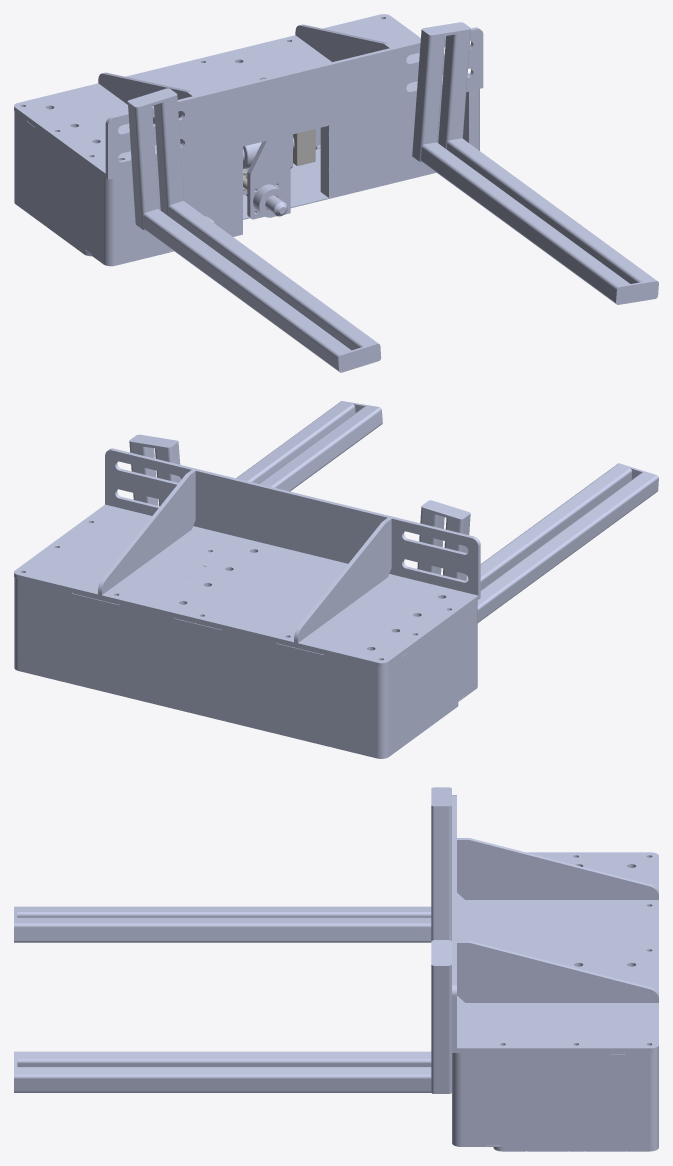
The model's file is Привод стола.glb.
3 views of the same model, one above another, from view 1: azimuth 30°, elevation 25°; view 2: azimuth 150°, elevation 25°; view 3: azimuth 270°, elevation 25° (orthographic). The views are drawn at different scales.
Visible parts, largest first — view 1: 65.03.00.406 ÃÃ¨Ã±Ã²_00 (×2), 65.03.00.104 ÃÃ«Ã¨Ã²Ã _00, 65.03.00.101 ÃÃ«Ã¨Ã²Ã _00, 65.03.50.003 ÃÃ°Ã³Ã¡Ã 25Ãµ25Ãµ3 ÃÃÃÃ 8639-82 L=500_003, 65.03.50.003 ÃÃ°Ã³Ã¡Ã 25Ãµ25Ãµ3 ÃÃÃÃ 8639-82 L=500_001, 65.03.50.003 ÃÃ°Ã³Ã¡Ã 25Ãµ25Ãµ3 ÃÃÃÃ 8639-82 L=500_002, 65.03.50.003 ÃÃ°Ã³Ã¡Ã 25Ãµ25Ãµ3 ÃÃÃÃ 8639-82 L=500_00, 65.03.50.002 ÃÃ°Ã³Ã¡Ã 25Ãµ25Ãµ3 ÃÃÃÃ 8639-82 L=170_001, 65.03.50.002 ÃÃ°Ã³Ã¡Ã 25Ãµ25Ãµ3 ÃÃÃÃ 8639-82 L=170_00, 65.03.50.002 ÃÃ°Ã³Ã¡Ã 25Ãµ25Ãµ3 ÃÃÃÃ 8639-82 L=170_003, 65.03.50.002 ÃÃ°Ã³Ã¡Ã 25Ãµ25Ãµ3 ÃÃÃÃ 8639-82 L=170_002, 65.03.00.206 ÃÃ«Ã Ã±Ã²Ã¨ÃÃ _00 (+10 smaller); view 2: 65.03.00.406 ÃÃ¨Ã±Ã²_00 (×2), 65.03.00.101 ÃÃ«Ã¨Ã²Ã _00, 65.03.00.104 ÃÃ«Ã¨Ã²Ã _00, 65.03.50.003 ÃÃ°Ã³Ã¡Ã 25Ãµ25Ãµ3 ÃÃÃÃ 8639-82 L=500_003, 65.03.50.003 ÃÃ°Ã³Ã¡Ã 25Ãµ25Ãµ3 ÃÃÃÃ 8639-82 L=500_002, 65.03.00.105 ÃÃ¥Ã¡Ã°Ã®_001, 65.03.00.105 ÃÃ¥Ã¡Ã°Ã®_00, 65.03.50.003 ÃÃ°Ã³Ã¡Ã 25Ãµ25Ãµ3 ÃÃÃÃ 8639-82 L=500_001, 65.03.50.003 ÃÃ°Ã³Ã¡Ã 25Ãµ25Ãµ3 ÃÃÃÃ 8639-82 L=500_00, 65.03.50.002 ÃÃ°Ã³Ã¡Ã 25Ãµ25Ãµ3 ÃÃÃÃ 8639-82 L=170_002, 65.03.50.002 ÃÃ°Ã³Ã¡Ã 25Ãµ25Ãµ3 ÃÃÃÃ 8639-82 L=170_003, 65.03.50.002 ÃÃ°Ã³Ã¡Ã 25Ãµ25Ãµ3 ÃÃÃÃ 8639-82 L=170_00 (+3 smaller); view 3: 65.03.00.406 ÃÃ¨Ã±Ã²_00 (×2), 65.03.00.101 ÃÃ«Ã¨Ã²Ã _00, 65.03.50.003 ÃÃ°Ã³Ã¡Ã 25Ãµ25Ãµ3 ÃÃÃÃ 8639-82 L=500_00, 65.03.50.003 ÃÃ°Ã³Ã¡Ã 25Ãµ25Ãµ3 ÃÃÃÃ 8639-82 L=500_002, 65.03.00.105 ÃÃ¥Ã¡Ã°Ã®_001, 65.03.00.105 ÃÃ¥Ã¡Ã°Ã®_00, 65.03.50.003 ÃÃ°Ã³Ã¡Ã 25Ãµ25Ãµ3 ÃÃÃÃ 8639-82 L=500_001, 65.03.50.003 ÃÃ°Ã³Ã¡Ã 25Ãµ25Ãµ3 ÃÃÃÃ 8639-82 L=500_003, 65.03.50.002 ÃÃ°Ã³Ã¡Ã 25Ãµ25Ãµ3 ÃÃÃÃ 8639-82 L=170_002, 65.03.50.002 ÃÃ°Ã³Ã¡Ã 25Ãµ25Ãµ3 ÃÃÃÃ 8639-82 L=170_00, 65.03.00.104 ÃÃ«Ã¨Ã²Ã _00, 65.03.50.001 ÃÃ ÃªÃ«Ã Ã¤ÃªÃ _00.
Part boxes in pixels (x1,y1,x2,y2): 65.03.00.406 ÃÃ¨Ã±Ã²_00 (×2): [14, 49, 479, 266]; 65.03.00.104 ÃÃ«Ã¨Ã²Ã _00: [105, 27, 483, 175]; 65.03.00.101 ÃÃ«Ã¨Ã²Ã _00: [14, 14, 483, 179]; 65.03.50.003 ÃÃ°Ã³Ã¡Ã 25Ãµ25Ãµ3 ÃÃÃÃ 8639-82 L=500_003: [143, 209, 351, 370]; 65.03.50.003 ÃÃ°Ã³Ã¡Ã 25Ãµ25Ãµ3 ÃÃÃÃ 8639-82 L=500_001: [421, 142, 629, 302]; 65.03.50.003 ÃÃ°Ã³Ã¡Ã 25Ãµ25Ãµ3 ÃÃÃÃ 8639-82 L=500_002: [168, 201, 377, 350]; 65.03.50.003 ÃÃ°Ã³Ã¡Ã 25Ãµ25Ãµ3 ÃÃÃÃ 8639-82 L=500_00: [446, 138, 655, 283]; 65.03.50.002 ÃÃ°Ã³Ã¡Ã 25Ãµ25Ãµ3 ÃÃÃÃ 8639-82 L=170_001: [412, 32, 445, 158]; 65.03.50.002 ÃÃ°Ã³Ã¡Ã 25Ãµ25Ãµ3 ÃÃÃÃ 8639-82 L=170_00: [438, 32, 470, 148]; 65.03.50.002 ÃÃ°Ã³Ã¡Ã 25Ãµ25Ãµ3 ÃÃÃÃ 8639-82 L=170_003: [128, 105, 158, 227]; 65.03.50.002 ÃÃ°Ã³Ã¡Ã 25Ãµ25Ãµ3 ÃÃÃÃ 8639-82 L=170_002: [154, 97, 183, 216]; 65.03.00.206 ÃÃ«Ã Ã±Ã²Ã¨ÃÃ _00: [247, 136, 290, 219]; 65.03.00.406 ÃÃ¨Ã±Ã²_00 (×2): [14, 515, 477, 757]; 65.03.00.101 ÃÃ«Ã¨Ã²Ã _00: [14, 504, 480, 667]; 65.03.00.104 ÃÃ«Ã¨Ã²Ã _00: [105, 448, 480, 595]; 65.03.50.003 ÃÃ°Ã³Ã¡Ã 25Ãµ25Ãµ3 ÃÃÃÃ 8639-82 L=500_003: [477, 472, 657, 622]; 65.03.50.003 ÃÃ°Ã³Ã¡Ã 25Ãµ25Ãµ3 ÃÃÃÃ 8639-82 L=500_002: [466, 464, 631, 590]; 65.03.00.105 ÃÃ¥Ã¡Ã°Ã®_001: [98, 470, 195, 595]; 65.03.00.105 ÃÃ¥Ã¡Ã°Ã®_00: [294, 518, 391, 642]; 65.03.50.003 ÃÃ°Ã³Ã¡Ã 25Ãµ25Ãµ3 ÃÃÃÃ 8639-82 L=500_001: [259, 406, 381, 491]; 65.03.50.003 ÃÃ°Ã³Ã¡Ã 25Ãµ25Ãµ3 ÃÃÃÃ 8639-82 L=500_00: [236, 402, 355, 483]; 65.03.50.002 ÃÃ°Ã³Ã¡Ã 25Ãµ25Ãµ3 ÃÃÃÃ 8639-82 L=170_002: [417, 510, 444, 574]; 65.03.50.002 ÃÃ°Ã³Ã¡Ã 25Ãµ25Ãµ3 ÃÃÃÃ 8639-82 L=170_003: [443, 517, 470, 580]; 65.03.50.002 ÃÃ°Ã³Ã¡Ã 25Ãµ25Ãµ3 ÃÃÃÃ 8639-82 L=170_00: [129, 444, 158, 505]; 65.03.00.406 ÃÃ¨Ã±Ã²_00 (×2): [452, 852, 658, 1151]; 65.03.00.101 ÃÃ«Ã¨Ã²Ã _00: [452, 852, 658, 1052]; 65.03.50.003 ÃÃ°Ã³Ã¡Ã 25Ãµ25Ãµ3 ÃÃÃÃ 8639-82 L=500_00: [17, 1067, 431, 1092]; 65.03.50.003 ÃÃ°Ã³Ã¡Ã 25Ãµ25Ãµ3 ÃÃÃÃ 8639-82 L=500_002: [17, 918, 431, 942]; 65.03.00.105 ÃÃ¥Ã¡Ã°Ã®_001: [457, 940, 658, 1002]; 65.03.00.105 ÃÃ¥Ã¡Ã°Ã®_00: [457, 838, 658, 899]; 65.03.50.003 ÃÃ°Ã³Ã¡Ã 25Ãµ25Ãµ3 ÃÃÃÃ 8639-82 L=500_001: [17, 1051, 431, 1066]; 65.03.50.003 ÃÃ°Ã³Ã¡Ã 25Ãµ25Ãµ3 ÃÃÃÃ 8639-82 L=500_003: [17, 906, 431, 917]; 65.03.50.002 ÃÃ°Ã³Ã¡Ã 25Ãµ25Ãµ3 ÃÃÃÃ 8639-82 L=170_002: [431, 809, 451, 940]; 65.03.50.002 ÃÃ°Ã³Ã¡Ã 25Ãµ25Ãµ3 ÃÃÃÃ 8639-82 L=170_00: [431, 968, 451, 1091]; 65.03.00.104 ÃÃ«Ã¨Ã²Ã _00: [452, 795, 456, 1048]; 65.03.50.001 ÃÃ ÃªÃ«Ã Ã¤ÃªÃ _00: [431, 940, 451, 968].
Size of the model in its own units: 0.56 by 0.2412 by 0.779.
